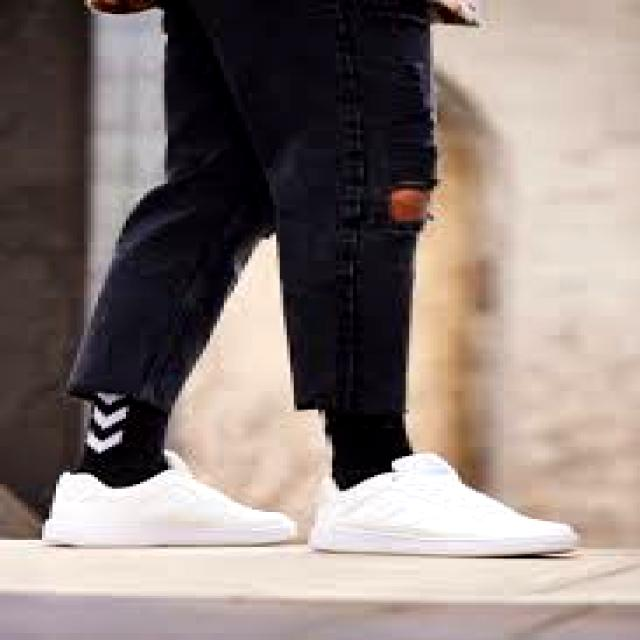foot-wear: (308, 454, 580, 556), (42, 452, 297, 546)
